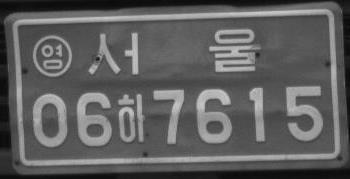0: (31, 92, 68, 147)
1: (242, 87, 275, 142)
5: (284, 85, 324, 142)
6: (75, 91, 112, 147), (196, 88, 233, 144)
7: (153, 89, 185, 145)
서울_D: (88, 27, 261, 75)
영: (32, 34, 73, 78)
하: (117, 93, 147, 142)
